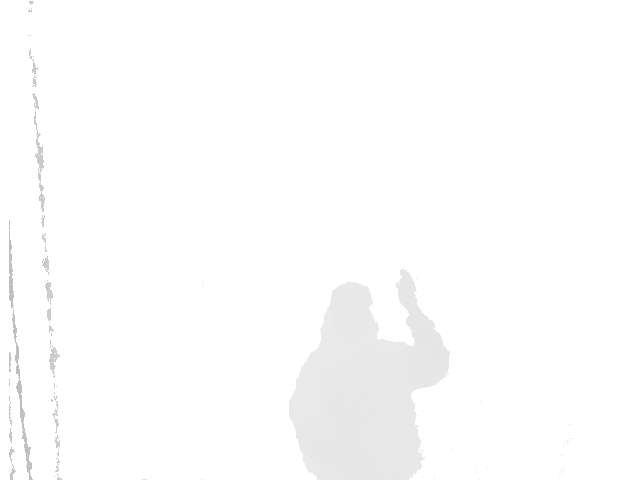hand: (394, 268, 423, 311)
head: (318, 282, 380, 343)
person: (288, 267, 450, 480)
